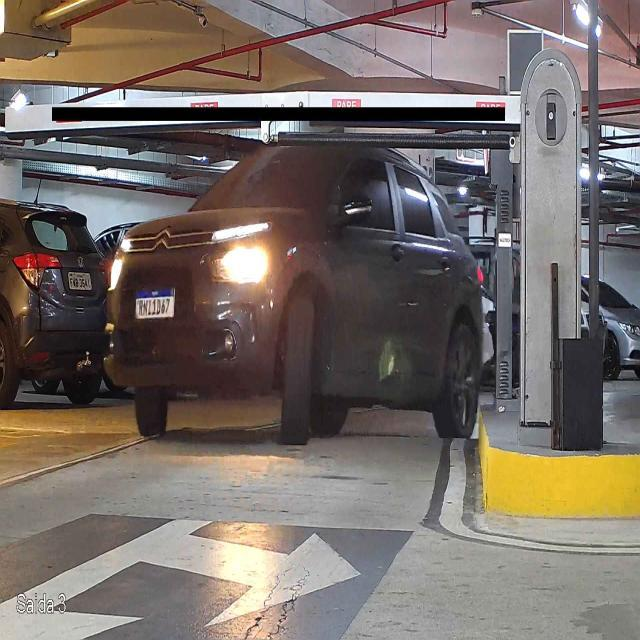mercosul_plate: (134, 287, 176, 320)
